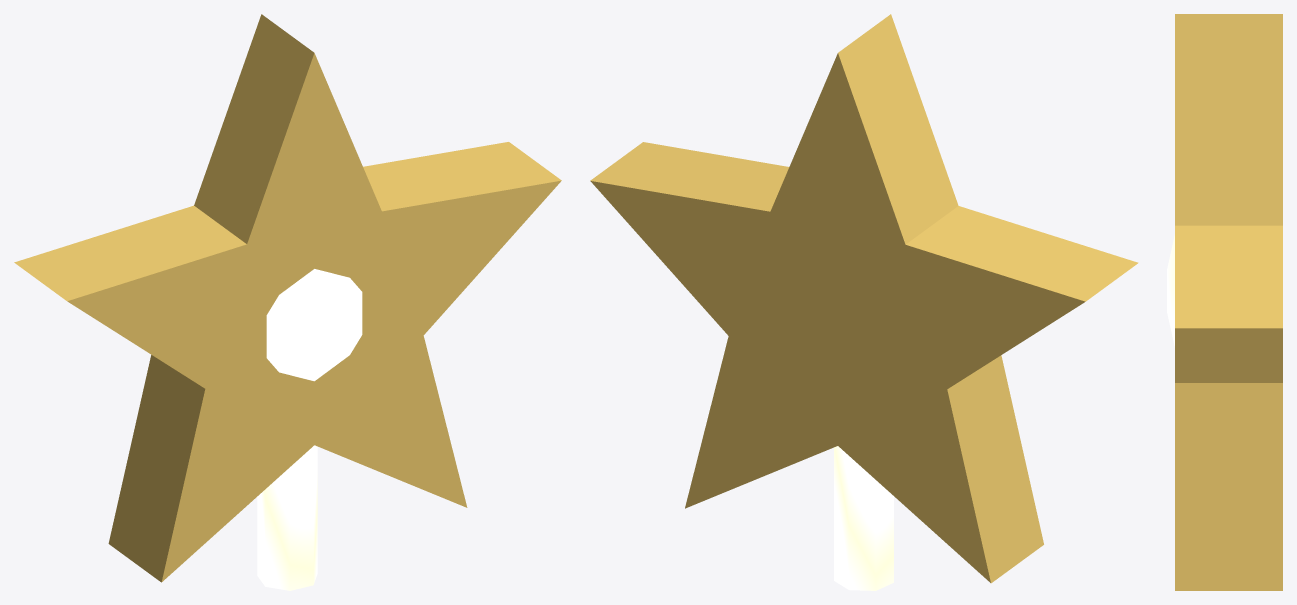
Rendered from xy_item_imprint_star.glb.
3 renders of one model, left to right at view 1: azimuth 30°, elevation 25°; view 2: azimuth 150°, elevation 25°; view 3: azimuth 270°, elevation 25°, orthographic.
Parts seen in each view (by area): view 1: StarBody, StarCore, StarStem; view 2: StarBody, StarStem; view 3: StarBody, StarCore.
Boxes of the visible parts, x1,y1,x2,y2 form: StarBody: [14, 14, 561, 582]; StarCore: [266, 269, 362, 381]; StarStem: [257, 445, 317, 590]; StarBody: [590, 14, 1138, 583]; StarStem: [834, 446, 893, 590]; StarBody: [1175, 14, 1282, 590]; StarCore: [1167, 234, 1174, 347].
Bounding box in the file's own units: 0.6467 × 0.68 × 0.1287.
